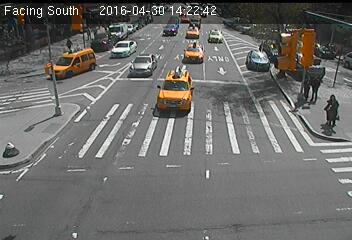neg: (44, 90, 68, 122), (145, 161, 169, 193), (73, 137, 94, 165), (252, 36, 272, 63), (210, 27, 226, 49), (11, 51, 26, 70), (157, 17, 170, 35), (26, 107, 39, 124), (186, 49, 199, 66), (191, 14, 203, 29), (234, 157, 246, 172)
pos: (316, 93, 346, 132), (305, 73, 329, 105), (299, 75, 319, 102), (63, 36, 78, 56)
